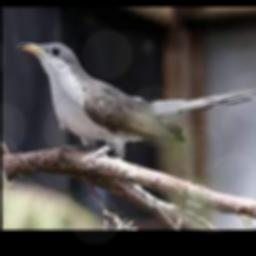Cuckoo: (16, 42, 256, 167)
